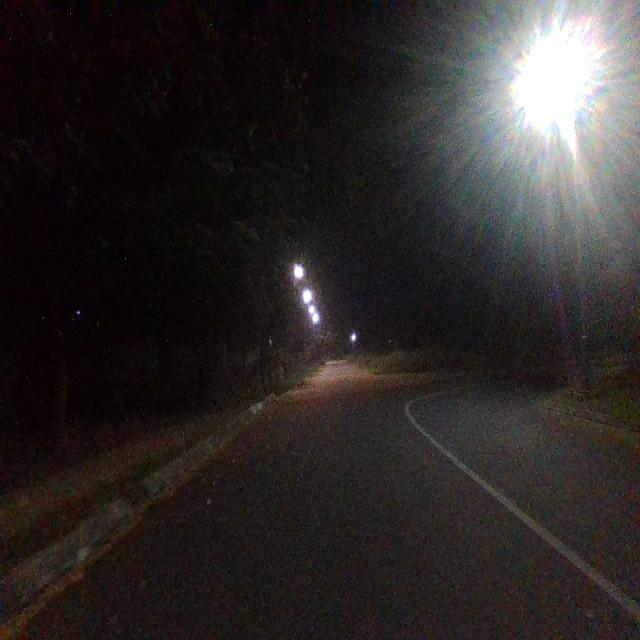lane: (9, 370, 640, 638)
